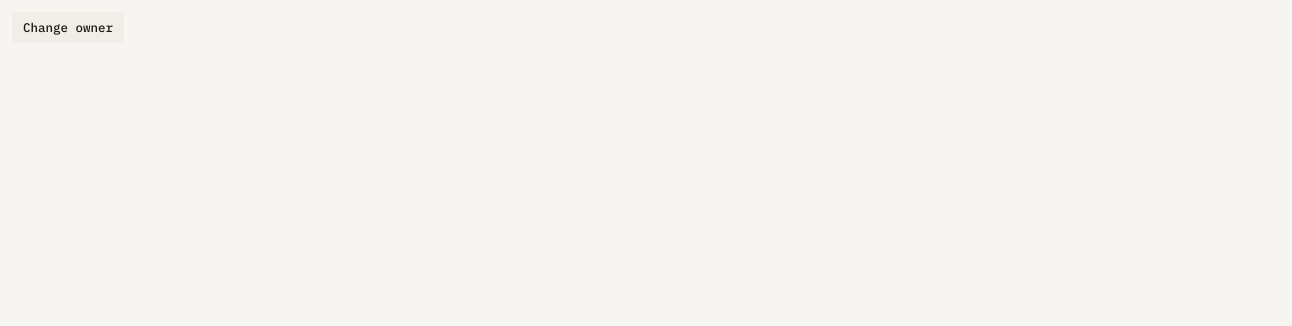
Test case: when the server refuses › shows what the server said
Click the button "Change owner". click: [68, 27]
box: x1=12 y1=12 x2=124 y2=43
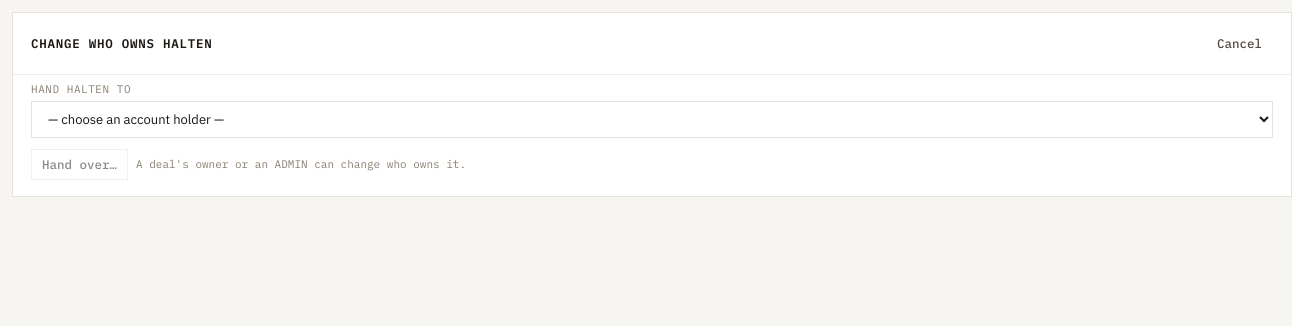
Select "Pilot Partner" in the dropdown labelled "Hand Halten to". click: [652, 120]
box: x1=31 y1=101 x2=1273 y2=138
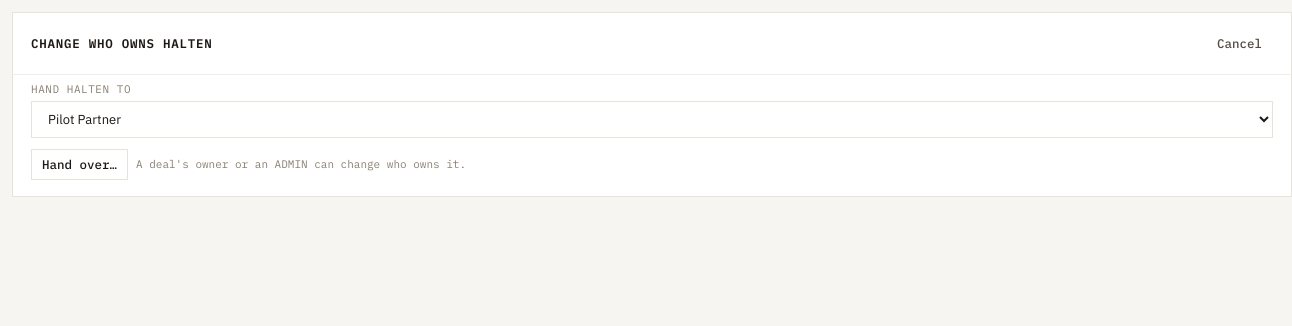
Click the button "Hand over…". click: [80, 165]
box: x1=31 y1=149 x2=128 y2=180
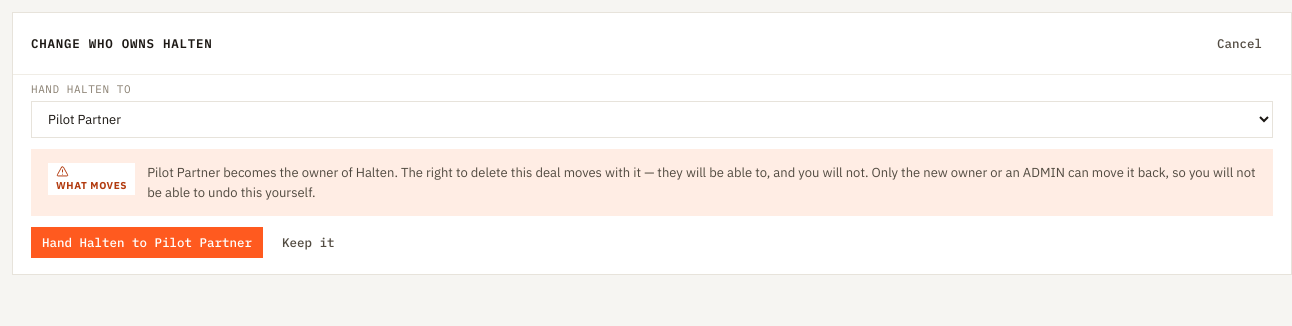
Click the button "Hand Halten to Pilot Partner". click: [147, 243]
box: x1=31 y1=227 x2=263 y2=258
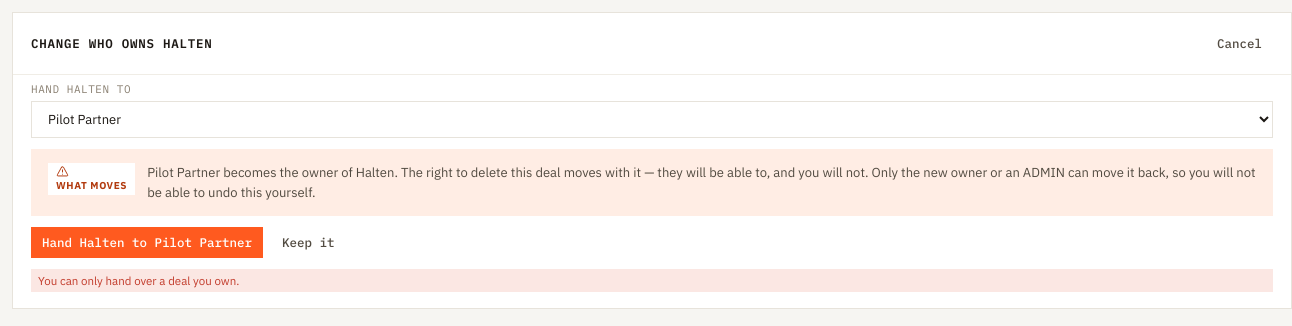
expect the text "You can only hand over a deal you own." is shown: met, box x1=31 y1=269 x2=1273 y2=292
